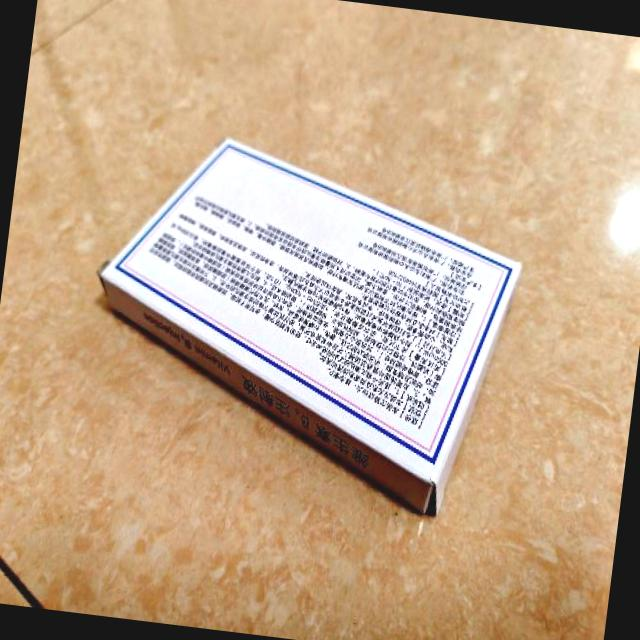box: (73, 122, 532, 526)
